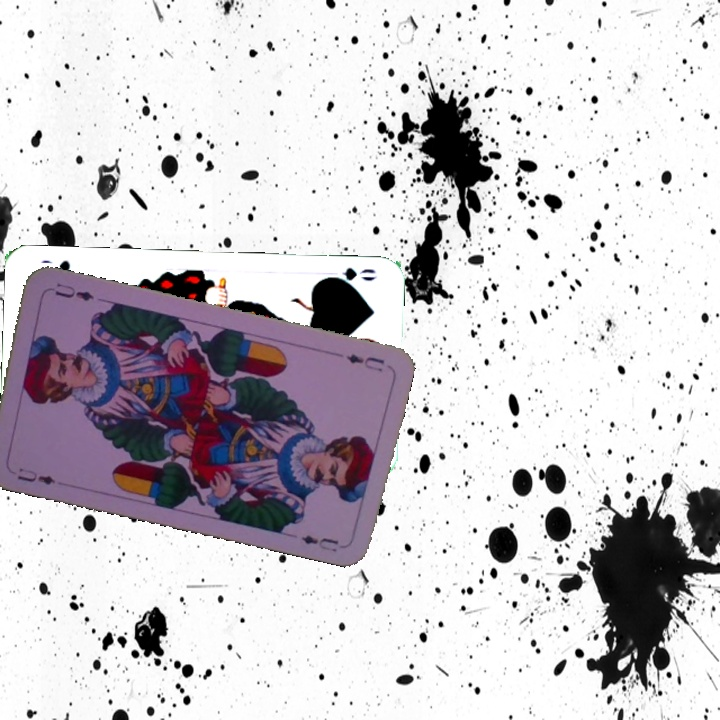EU: (13, 463, 58, 488), (342, 350, 387, 375)
GO: (319, 263, 379, 289)
